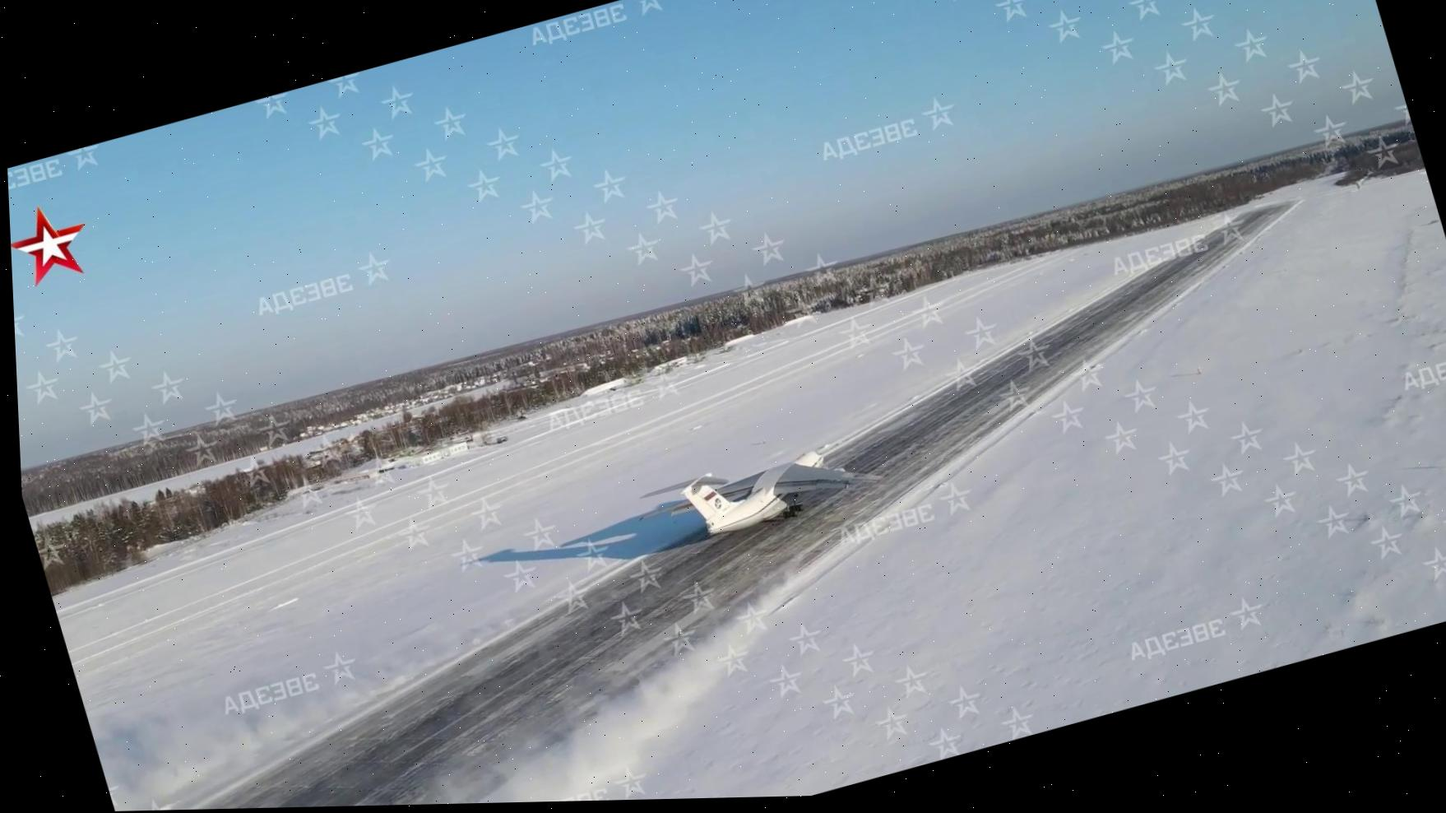plane: (629, 428, 893, 560)
